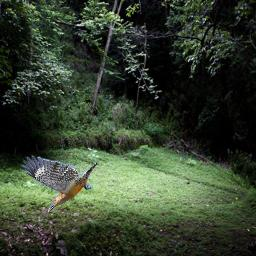Woodpecker: (20, 155, 98, 213)
